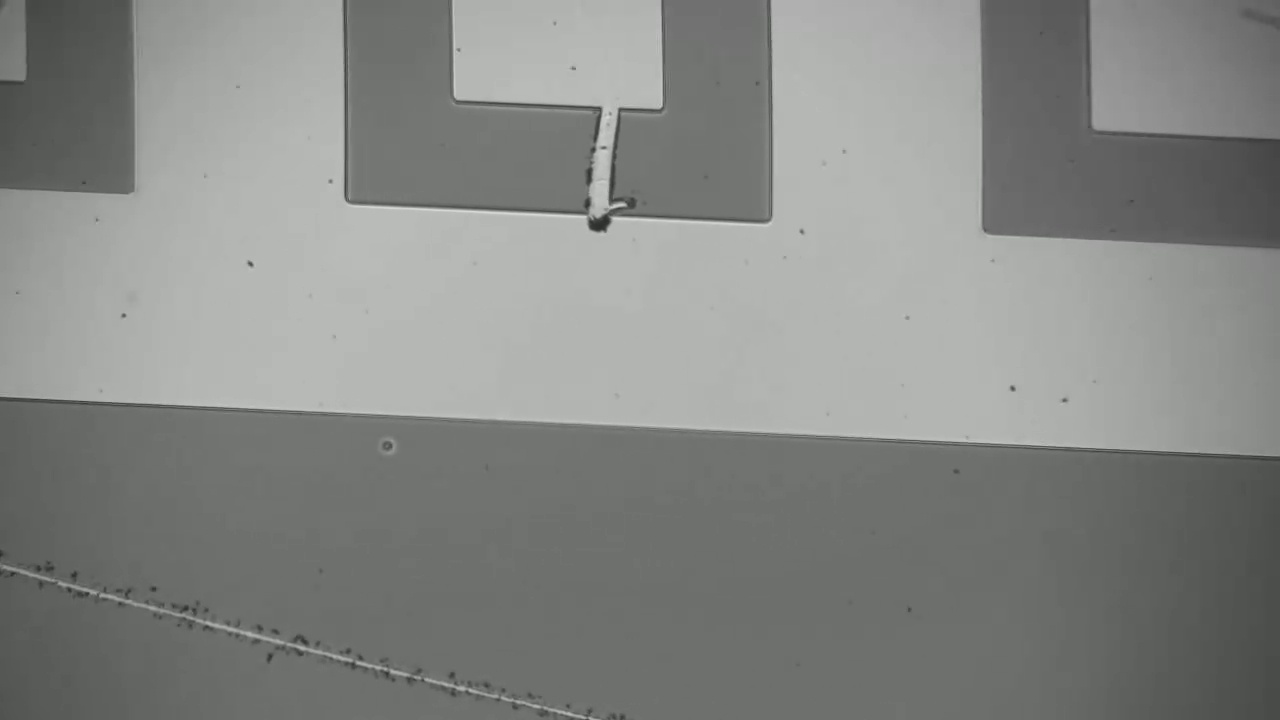Short_circuit: (550, 81, 644, 253)
scratch: (0, 543, 588, 716)
